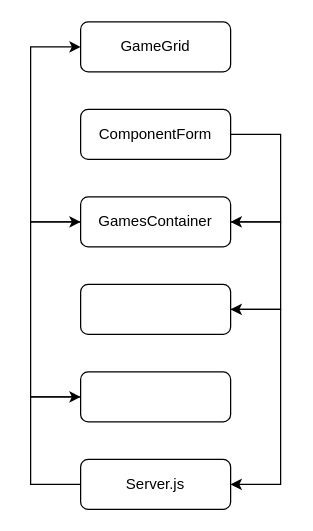
Some shapes in this 313 by 531 pixel diagram are drawn without their labels. Here are the shapes that lost their labels. From the top down, the centre of each, then its label:
At (155,308): "Games Service".
At (155,396): "CreateRouter".
